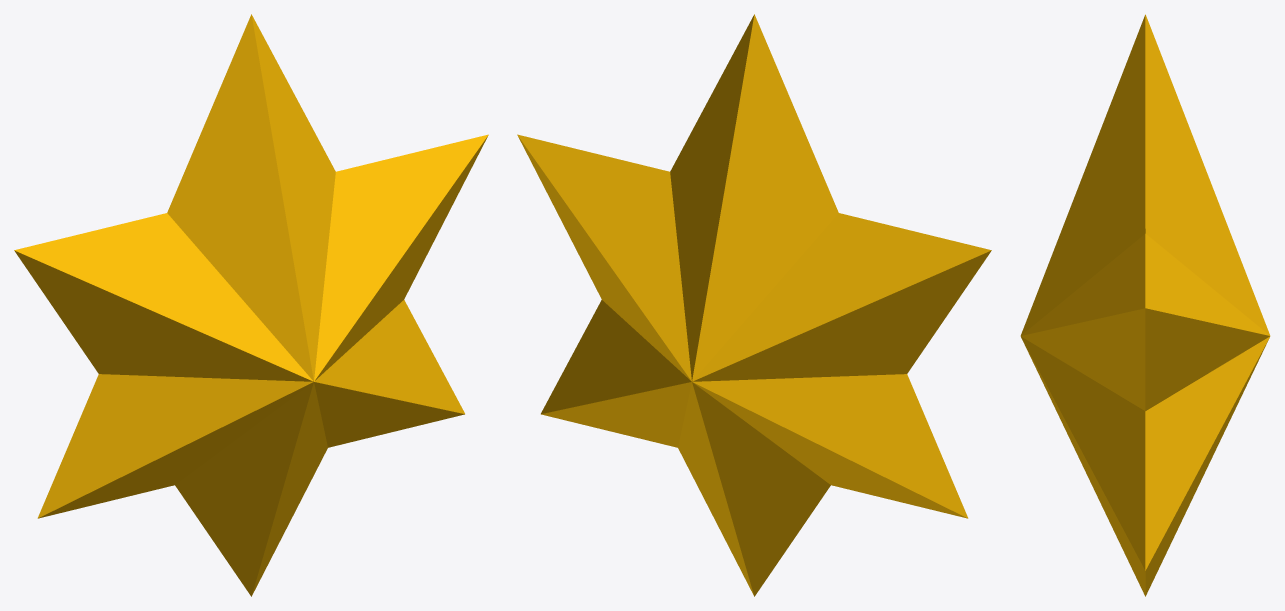
The model's file is Prop_Christmas_Ornament_Star_Gold_01.FBX.
The picture shows the model from 3 angles, left to right: view 1: azimuth 30°, elevation 25°; view 2: azimuth 150°, elevation 25°; view 3: azimuth 270°, elevation 25°; orthographic projection.
Parts seen in each view (by area): view 1: Prop_Christmas_Ornament_Star_Gold_01; view 2: Prop_Christmas_Ornament_Star_Gold_01; view 3: Prop_Christmas_Ornament_Star_Gold_01.
Part boxes in pixels (box(x1,y1,x2,y2)): Prop_Christmas_Ornament_Star_Gold_01: box(14, 14, 488, 596); Prop_Christmas_Ornament_Star_Gold_01: box(517, 14, 991, 596); Prop_Christmas_Ornament_Star_Gold_01: box(1020, 14, 1270, 596).
Bounding box in the file's own units: 358 × 420 × 163.
